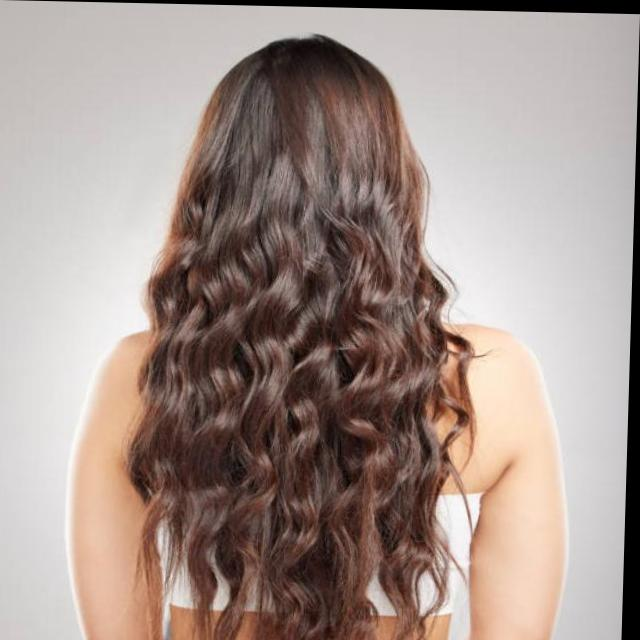no helmet: (152, 30, 465, 307)
